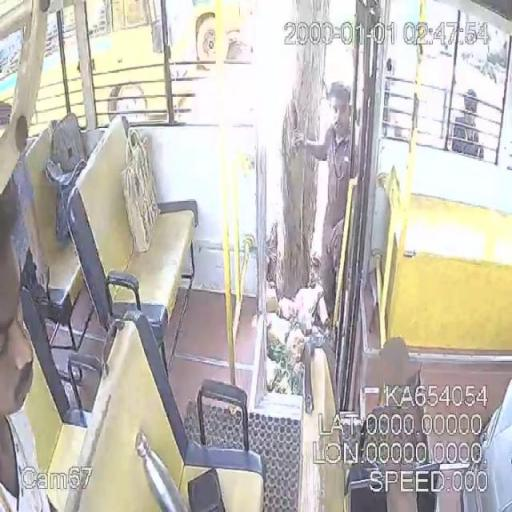persona: (1, 193, 73, 512), (290, 81, 364, 332), (450, 88, 485, 158)
